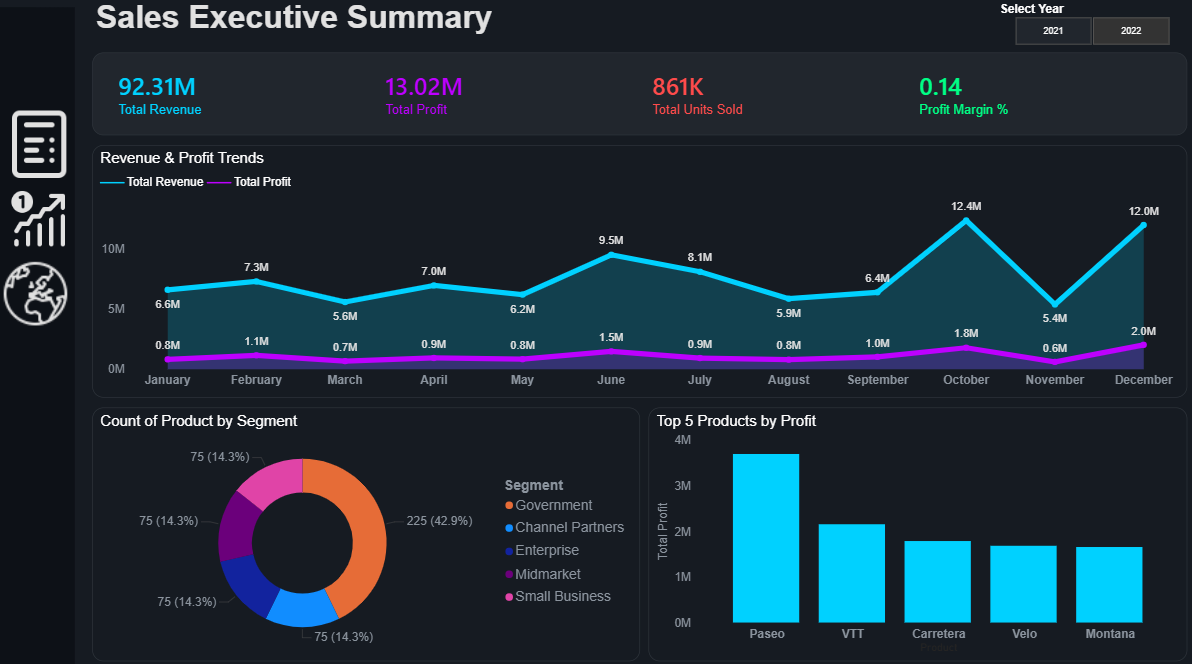

Layout of this report page (visuals, bound fields, positions):
{"tool":"powerbi","page":{"name":"Executive Overview","canvas":[1600,900],"ordinal":0},"visuals":[{"type":"shape","box":[0,16.7,105,1040],"z":0},{"type":"textbox","box":[127.5,0,560,72.5],"z":1000},{"type":"slicer","title":"Select Year","fields":{"Values":["Source.Date.Variation.Date Hierarchy.Year"]},"box":[1333.3,10,255,63],"z":2000},{"type":"cardVisual","fields":{"Data":["Key Measures.Total Revenue","Key Measures.Total Profit","Key Measures.Total Units Sold","Key Measures.Profit Margin %"]},"box":[128.3,76.7,1460,110],"z":3000},{"type":"lineChart","title":"Revenue & Profit Trends","fields":{"Category":["Source.Date.Variation.Date Hierarchy.Month"],"Y":["Key Measures.Total Revenue","Key Measures.Total Profit"]},"box":[128.3,200,1460,336.7],"z":4000},{"type":"image","box":[0,253.3,118.3,93.3],"z":5000},{"type":"donutChart","fields":{"Category":["Source.Segment"],"Y":["CountNonNull(Source.Product)"]},"box":[128.3,550,730,338.3],"z":6000},{"type":"clusteredColumnChart","title":"Top 5 Products by Profit","fields":{"Category":["Source.Product"],"Y":["Key Measures.Total Profit"]},"box":[870,550,718.3,338.3],"z":7000},{"type":"image","box":[0,145,115,108.3],"z":8000},{"type":"image","box":[6.7,346.7,91.7,103.3],"z":9000}]}

Visuals, with their boxes in screenshot pixels (x1, y1, x2, y2), scaled from the page's 1600x900 canvas onto the 1192x664 screenshot:
shape: 0/12/78/663
textbox: 95/0/512/53
"Select Year" slicer: 993/7/1183/54
cardVisual - Key Measures.Total Revenue x Key Measures.Total Profit: 96/57/1183/138
"Revenue & Profit Trends" lineChart: 96/148/1183/396
image: 0/187/88/256
donutChart - Source.Segment x CountNonNull(Source.Product): 96/406/639/655
"Top 5 Products by Profit" clusteredColumnChart: 648/406/1183/655
image: 0/107/86/187
image: 5/256/73/332
